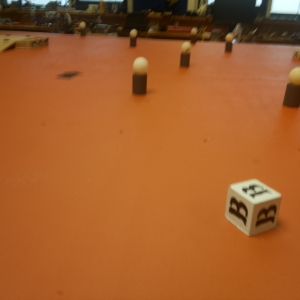blockA: (292, 49, 300, 60)
blockB: (225, 178, 285, 236)
obstacle: (283, 68, 300, 109), (131, 58, 148, 94), (179, 41, 192, 69), (129, 28, 138, 47), (191, 28, 200, 46), (225, 34, 233, 53), (79, 21, 87, 36)
side: (20, 37, 50, 46)
slope: (1, 38, 16, 52)
start: (55, 67, 83, 82)
